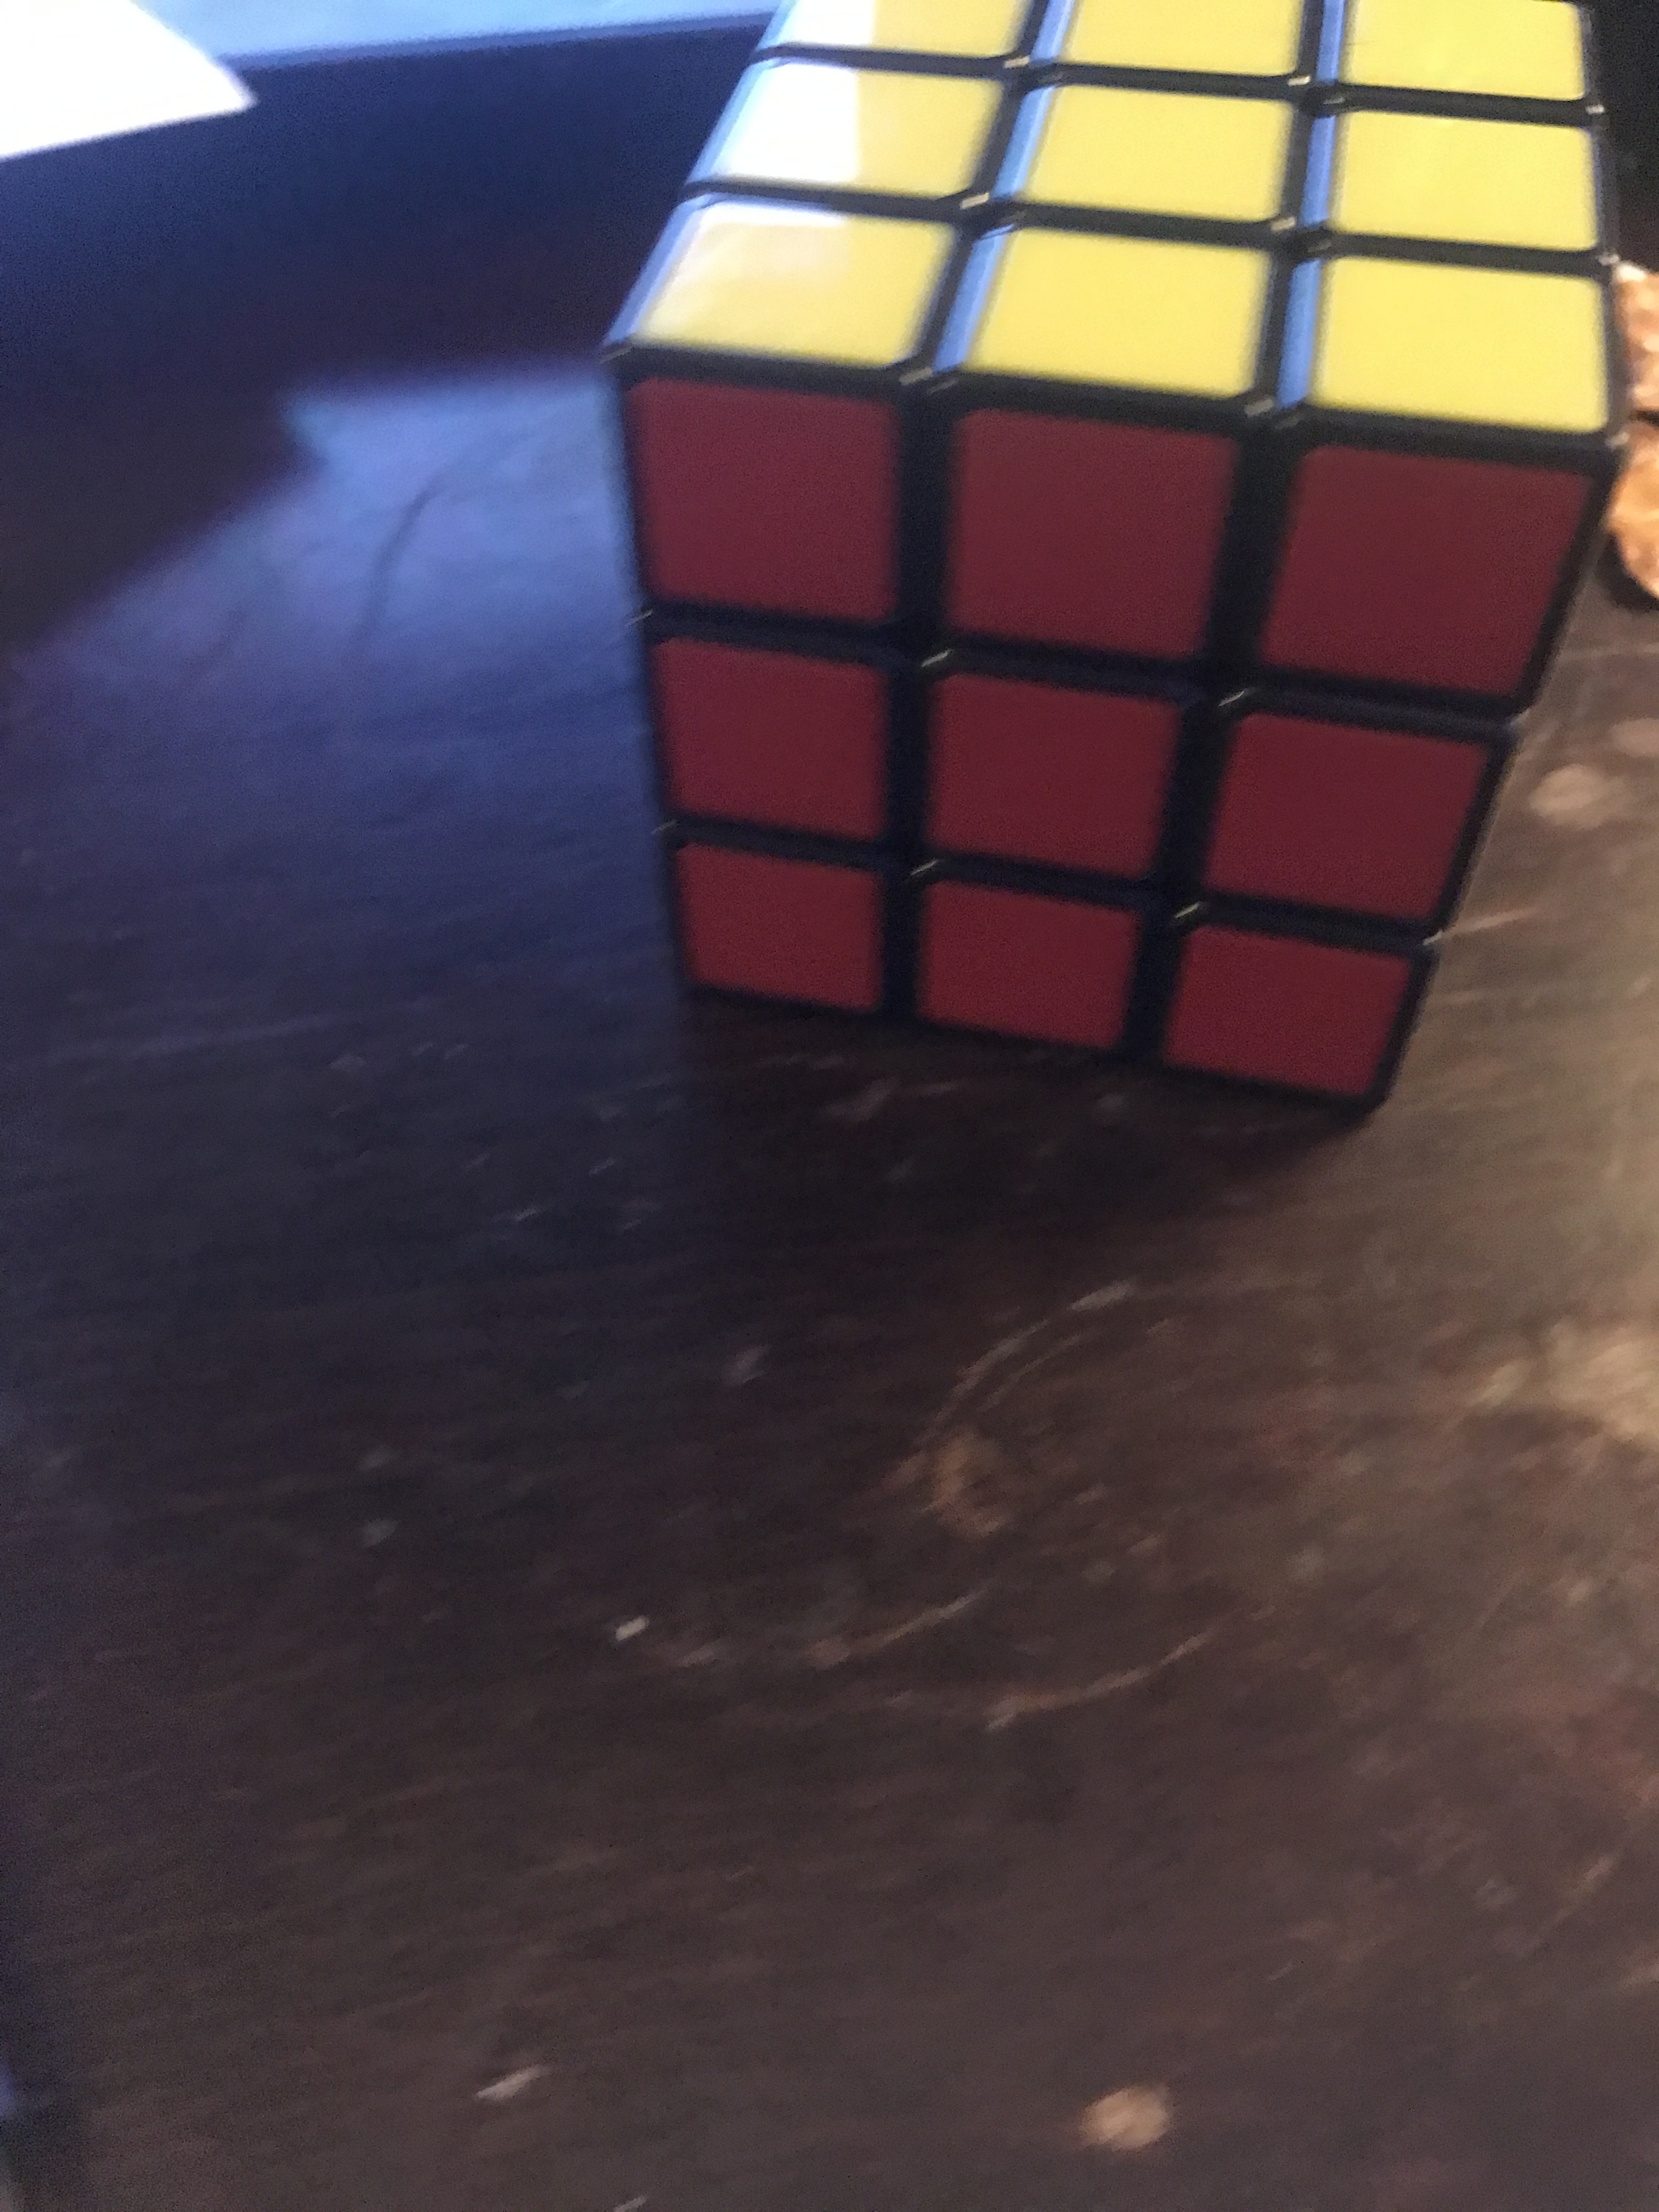rubiks: (610, 16, 1626, 1115)
